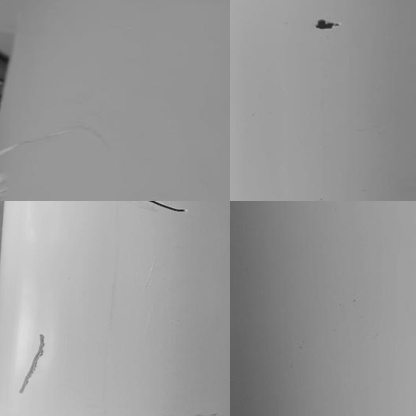fengxi: (144, 198, 186, 213)
kongdong: (310, 19, 339, 31)
sunshang: (15, 332, 48, 392)
